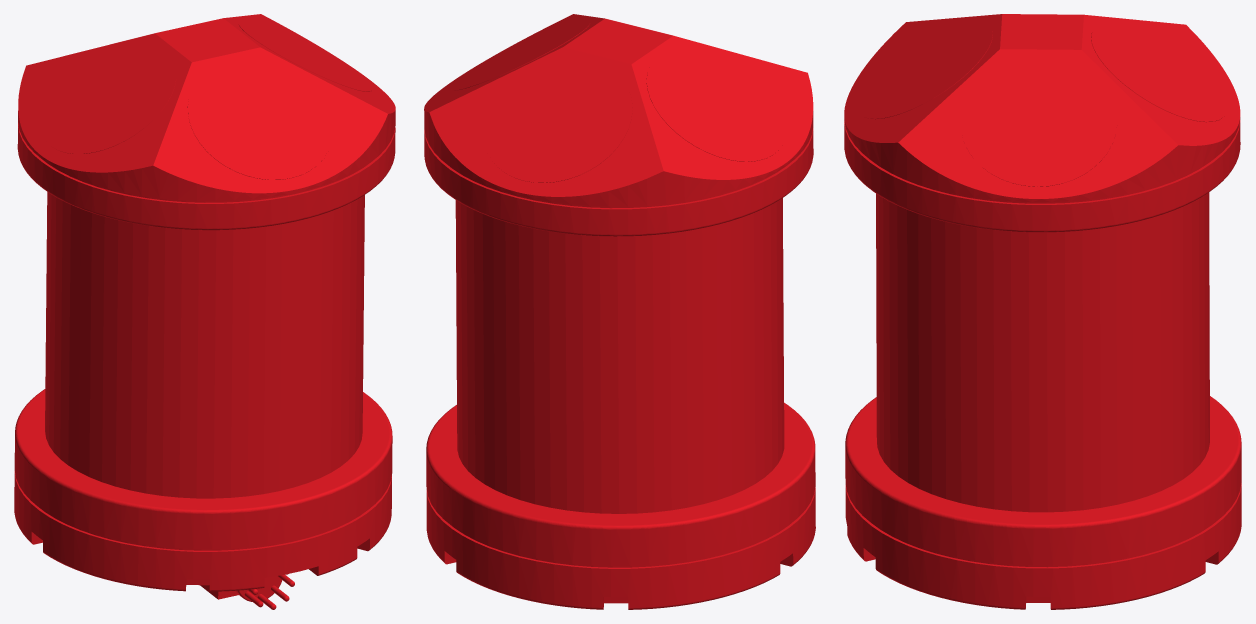
File: dvl.dae
3 renders of one model, left to right at view 1: azimuth 30°, elevation 25°; view 2: azimuth 150°, elevation 25°; view 3: azimuth 270°, elevation 25°, orthographic. The views are drawn at different scales.
Parts seen in each view (by area): view 1: DVL; view 2: DVL; view 3: DVL.
Part boxes in pixels (x1,y1,x2,y2): DVL: (14, 14, 395, 609); DVL: (424, 14, 815, 609); DVL: (844, 14, 1241, 609).
Size of the model in its own units: 0.1272 by 0.1264 by 0.1923.
